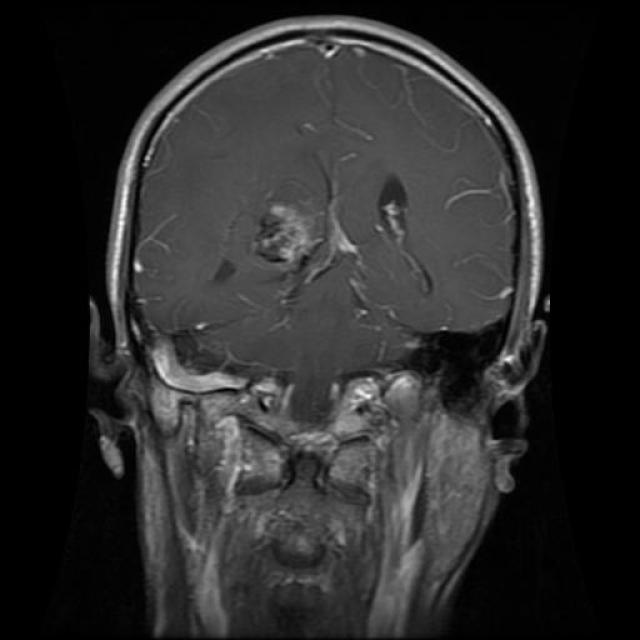glioma: (238, 188, 378, 312)
